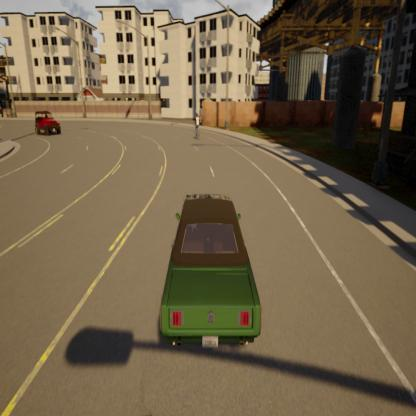Cars: (154, 186, 266, 359), (31, 106, 64, 141)
